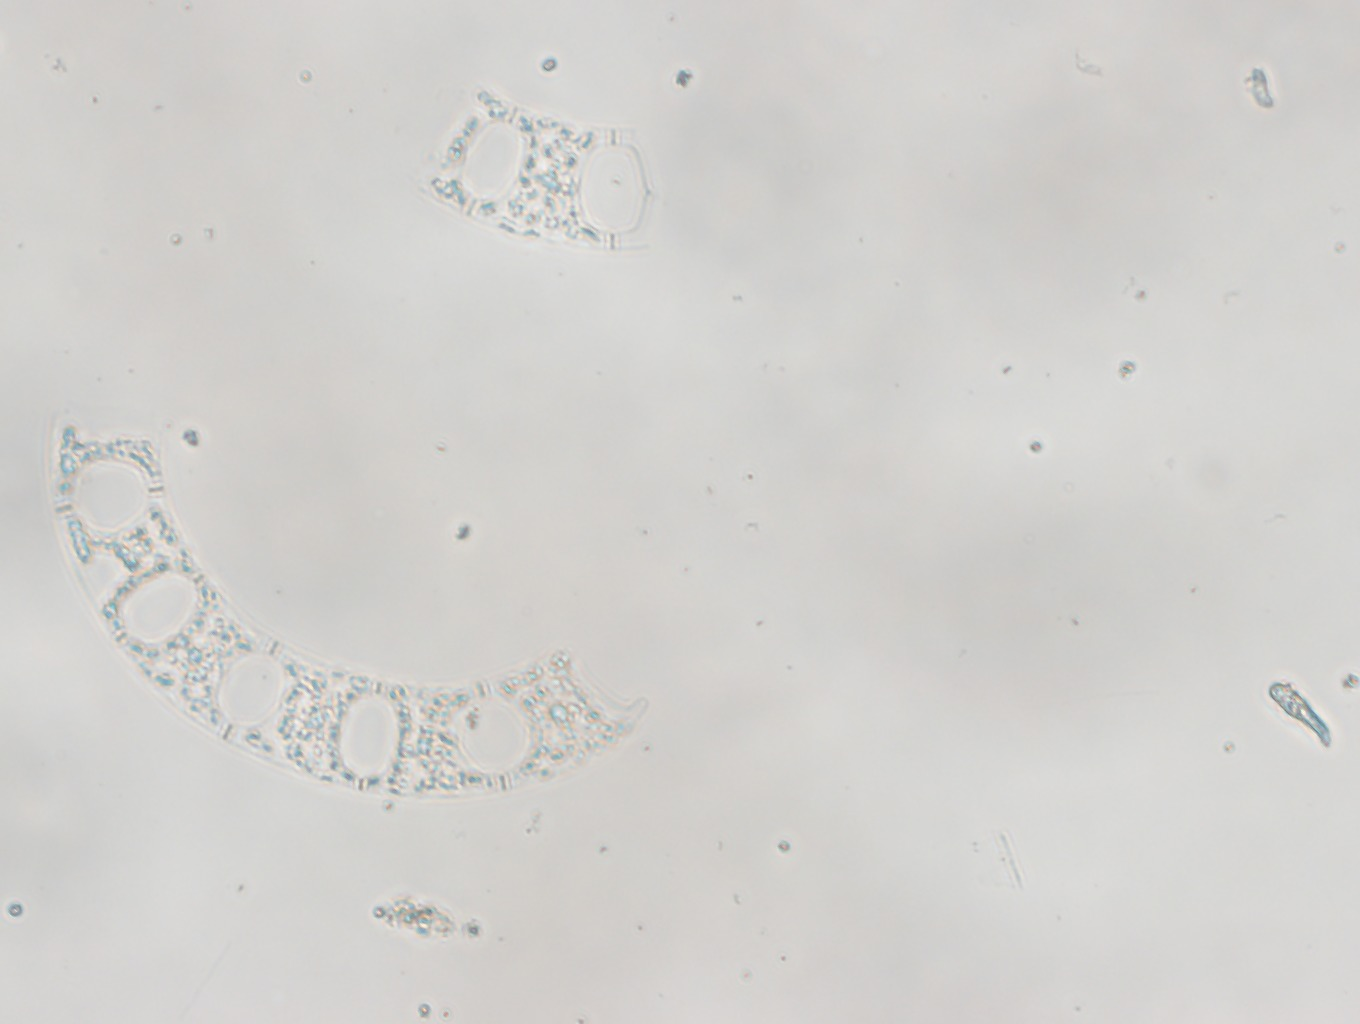eucampia: (53, 416, 654, 798), (420, 88, 658, 252)
